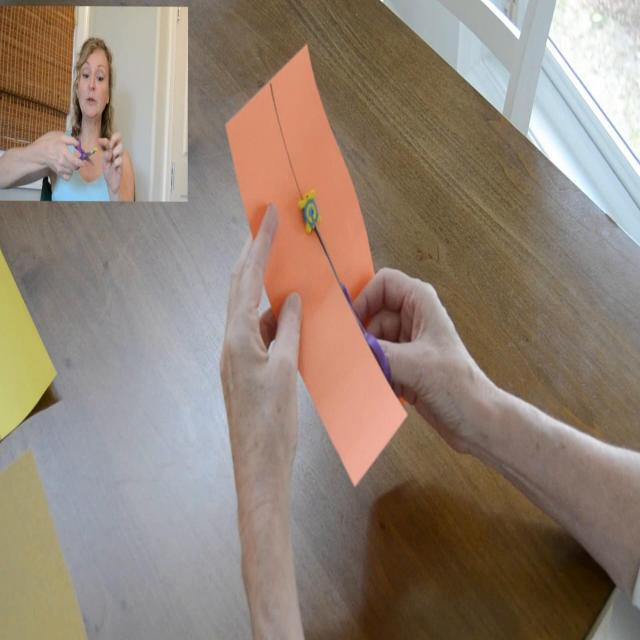scissor: (314, 222, 391, 379), (74, 138, 94, 171)
